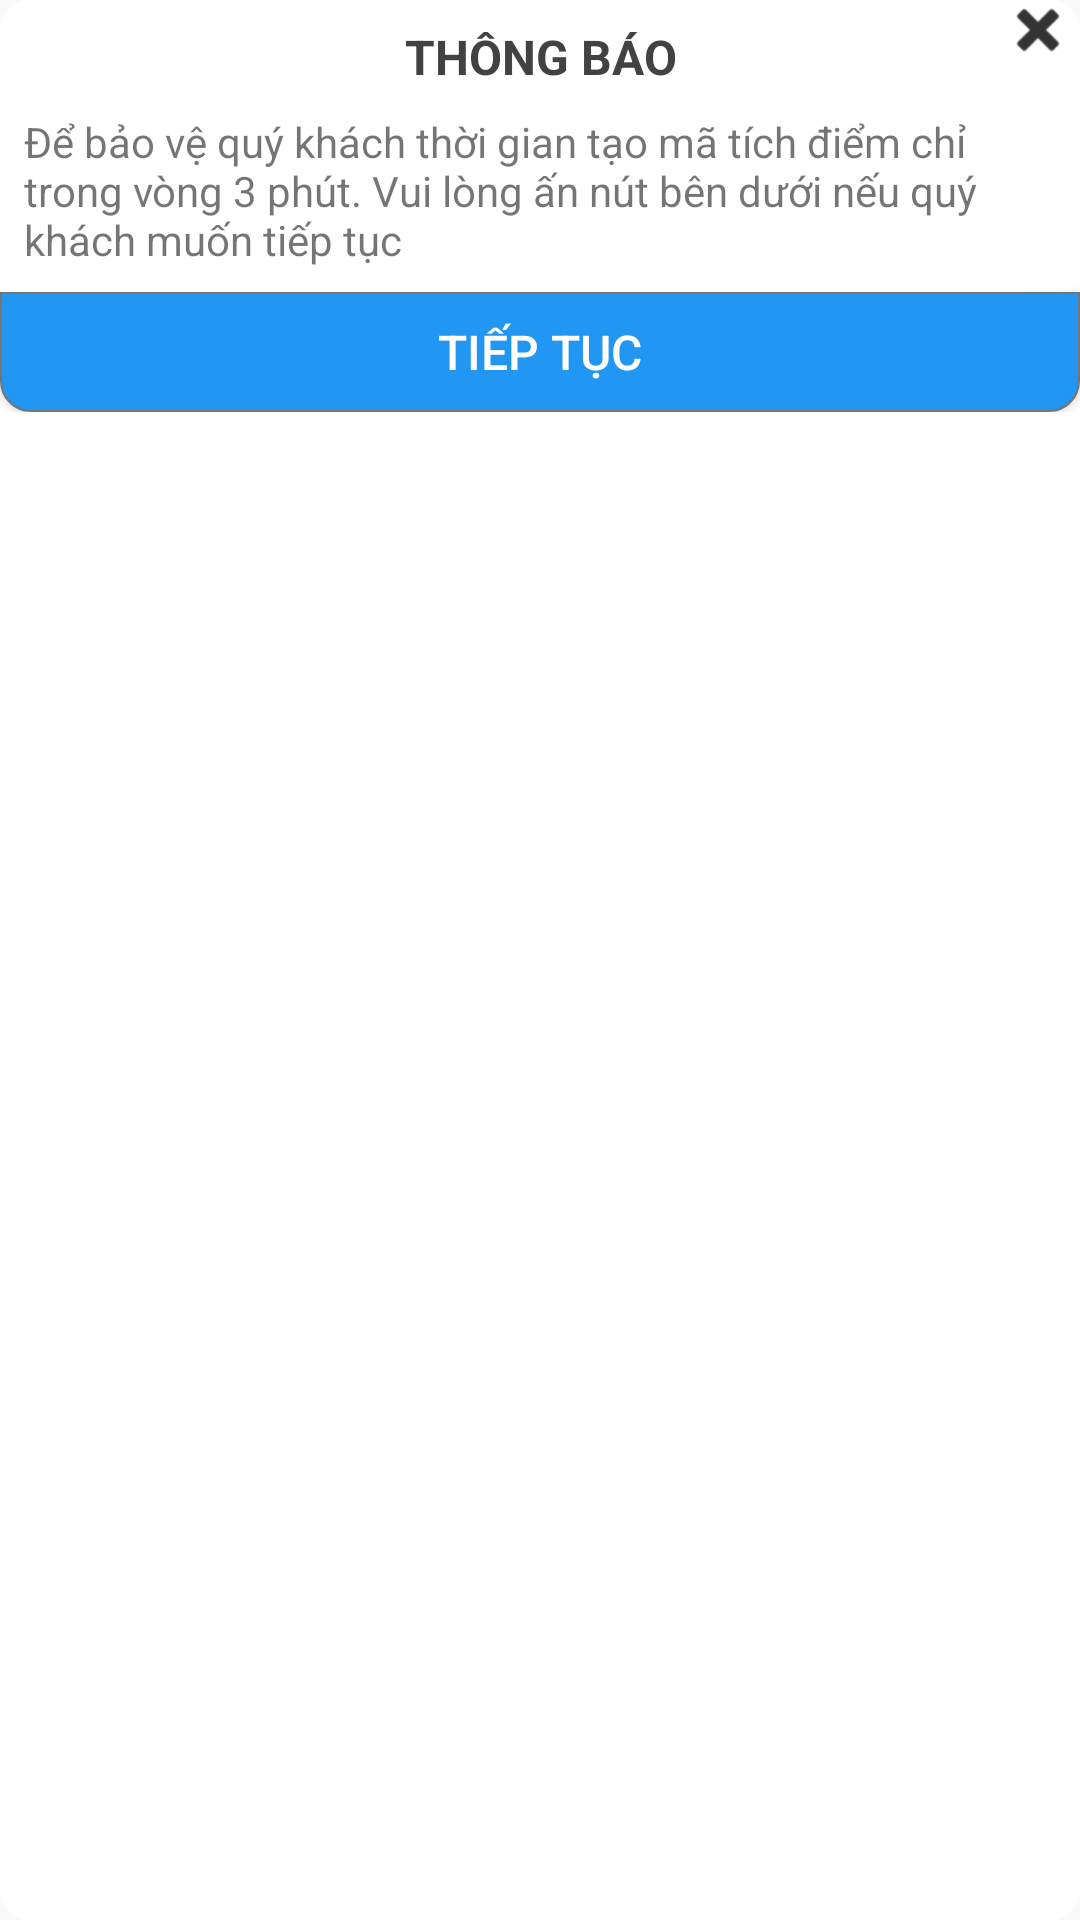

Point at icon controls on the screen. Image size 1080w x 1920h, points as (x,y).
exit: (1038,30)
